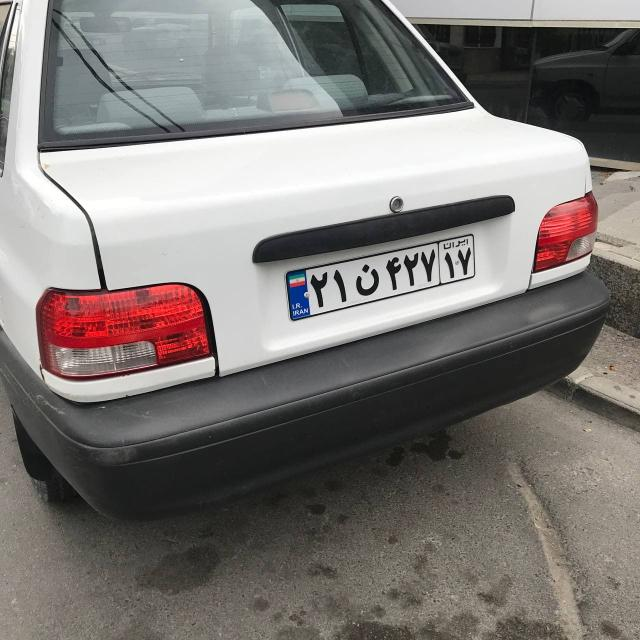Plates: (280, 227, 482, 321)
